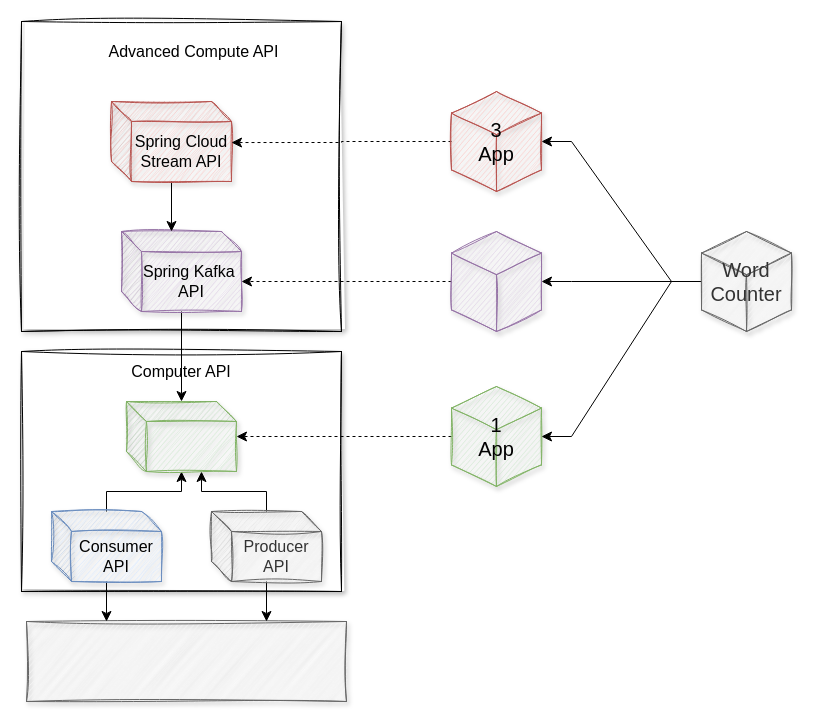
Some shapes in this 815 by 726 pixel diagram are drawn without their labels. Here are the shapes that lost their labels. From the top down, the centre of each, then its label:
point (497, 282): 2 App
point (182, 437): Streams API
point (187, 662): Storage Layer
